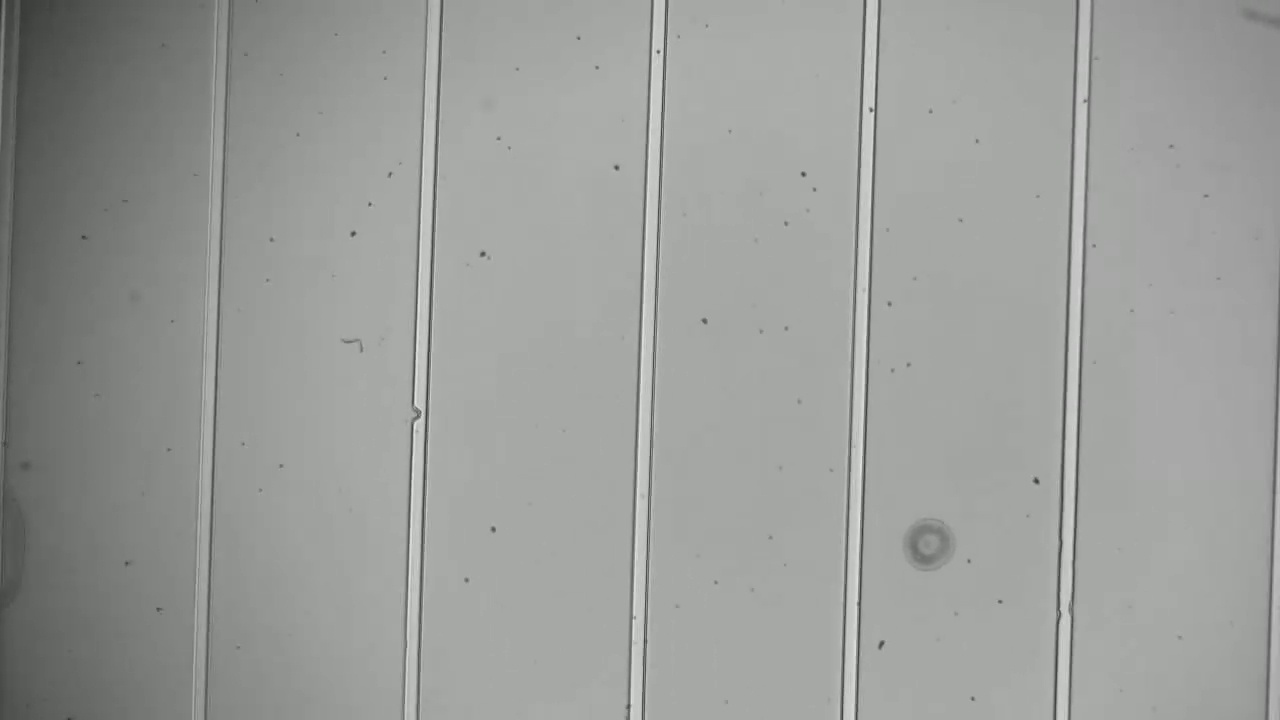edge_bite: (1045, 590, 1082, 629), (401, 398, 435, 429)
